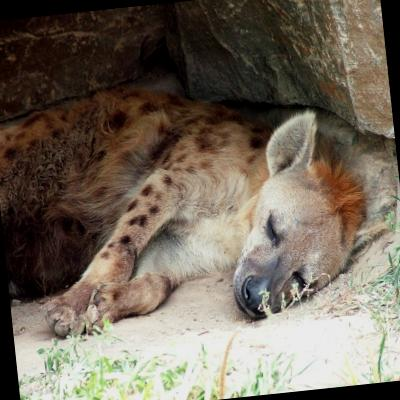hyenas: (0, 68, 393, 378)
